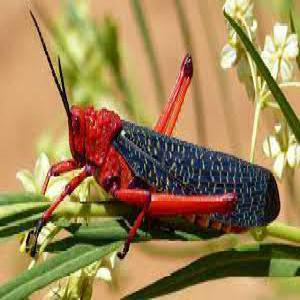locust: (52, 60, 278, 299)
